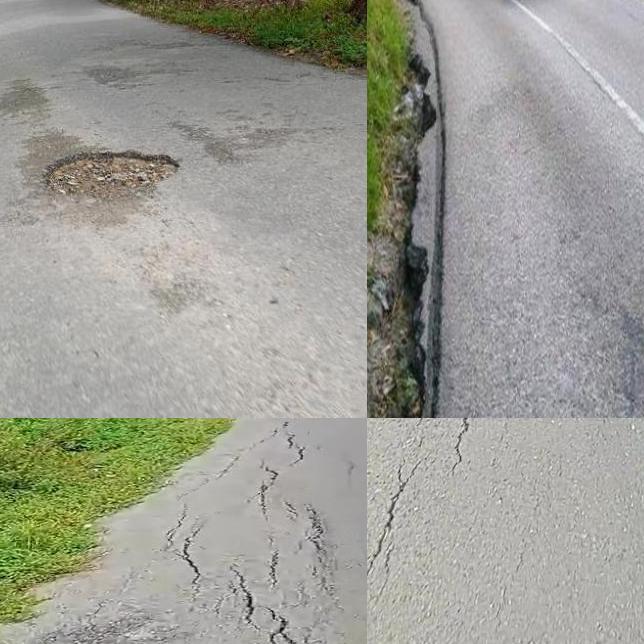Lubang: (41, 149, 175, 205)
Pinggir: (372, 0, 456, 418)
